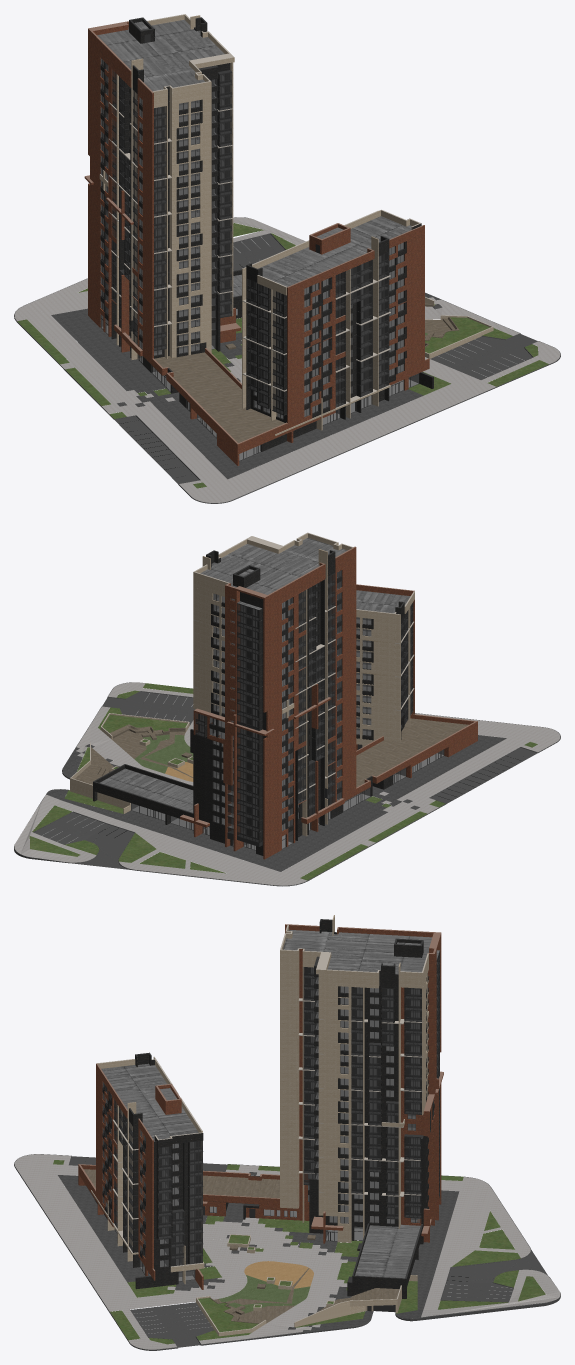
Rendered from 1172_Otradnoe_KPT-87-1.glb.
The picture shows the model from 3 angles, top to bottom: view 1: azimuth 30°, elevation 25°; view 2: azimuth 150°, elevation 25°; view 3: azimuth 270°, elevation 25°; orthographic projection. The views are drawn at different scales.
Visible parts, largest first — view 1: Main_brick_white_flat2, MainGlass_frame glass, Main_brick_red, Main_brick_black, Main_brick_white_place, Ground_tiles1, Ground_tiles2, Main_roof, Ground_road_bord, Main_place, Ground_grass; view 2: Main_brick_red, Main_brick_white_flat2, MainGlass_frame glass, Main_brick_black, Ground_tiles1, Main_brick_white_place, Ground_tiles2, Ground_road_bord, Main_roof, Ground_grass, Main_place, Ground_place_green; view 3: Main_brick_white_flat2, Ground_tiles1, MainGlass_frame glass, Main_brick_white_place, Main_brick_black, Main_brick_red, Main_roof, Ground_grass, Ground_road_bord, Ground_tiles2, Main_place, Ground_place_green (+1 smaller).
Boxes of the visible parts, left/top/right/bottom form: Main_brick_white_flat2: left=85, top=14, right=493, bottom=460; MainGlass_frame glass: left=101, top=58, right=419, bottom=460; Main_brick_red: left=84, top=22, right=429, bottom=465; Main_brick_black: left=100, top=18, right=433, bottom=451; Main_brick_white_place: left=99, top=15, right=493, bottom=435; Ground_tiles1: left=14, top=217, right=560, bottom=502; Ground_tiles2: left=51, top=293, right=442, bottom=479; Main_roof: left=97, top=19, right=411, bottom=336; Ground_road_bord: left=14, top=217, right=560, bottom=503; Main_place: left=154, top=303, right=458, bottom=442; Ground_grass: left=17, top=223, right=548, bottom=488; Main_brick_red: left=180, top=547, right=477, bottom=859; Main_brick_white_flat2: left=70, top=532, right=477, bottom=850; MainGlass_frame glass: left=131, top=570, right=443, bottom=849; Main_brick_black: left=93, top=550, right=413, bottom=855; Ground_tiles1: left=14, top=682, right=560, bottom=885; Main_brick_white_place: left=70, top=533, right=414, bottom=836; Ground_tiles2: left=46, top=735, right=506, bottom=871; Ground_road_bord: left=14, top=682, right=560, bottom=886; Main_roof: left=99, top=538, right=410, bottom=812; Ground_grass: left=29, top=683, right=537, bottom=880; Main_place: left=75, top=718, right=468, bottom=787; Ground_place_green: left=134, top=734, right=193, bottom=773; Main_brick_white_flat2: left=78, top=919, right=443, bottom=1332; Ground_tiles1: left=14, top=1154, right=560, bottom=1349; MainGlass_frame glass: left=103, top=954, right=439, bottom=1281; Main_brick_white_place: left=91, top=915, right=428, bottom=1336; Main_brick_black: left=94, top=919, right=439, bottom=1298; Main_brick_red: left=78, top=925, right=443, bottom=1289; Main_roof: left=101, top=929, right=439, bottom=1278; Ground_grass: left=53, top=1160, right=545, bottom=1344; Ground_road_bord: left=14, top=1154, right=560, bottom=1350; Ground_tiles2: left=58, top=1172, right=459, bottom=1331; Main_place: left=83, top=1169, right=399, bottom=1323; Ground_place_green: left=219, top=1275, right=310, bottom=1313.
Bounding box in the file's own units: 115 × 77.7 × 136.
13 materials, 13 textured.
